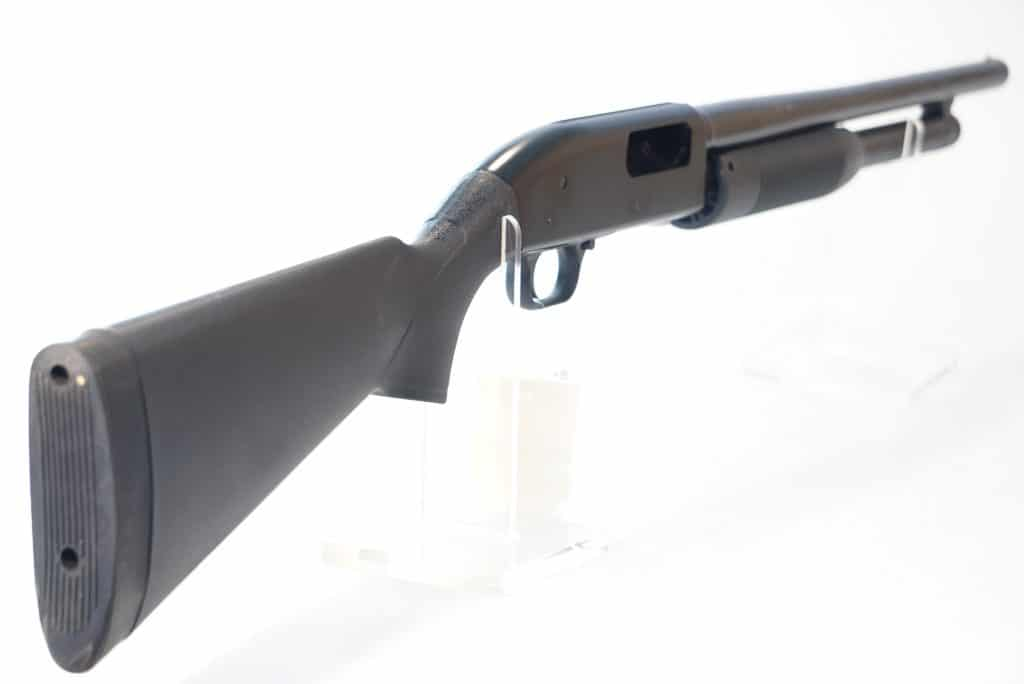Gun: (426, 58, 979, 370)
